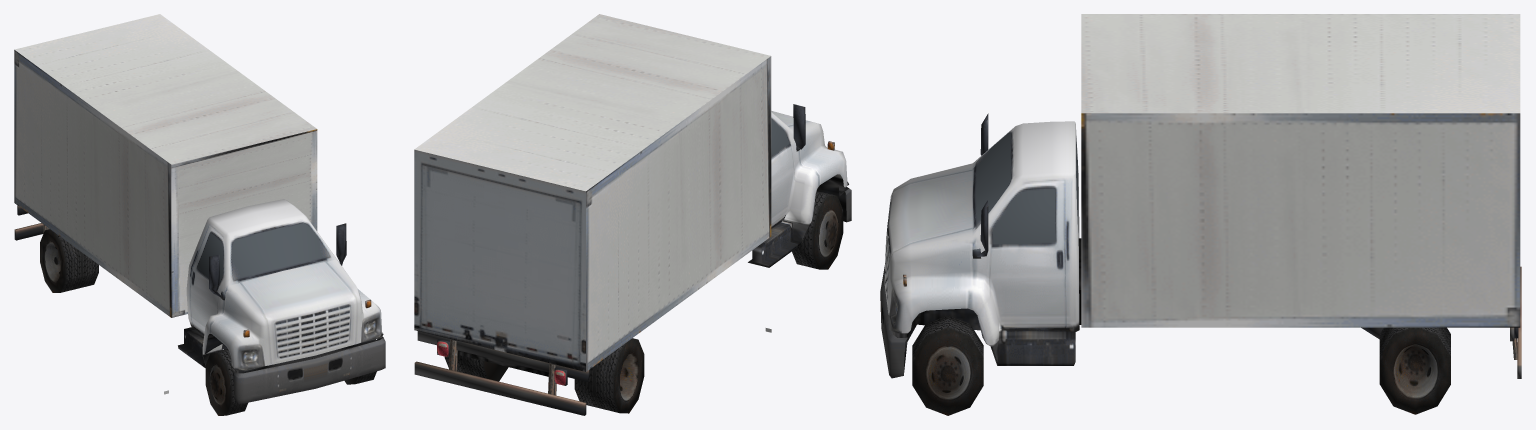
Rendered from Truck3.fbx.
The picture shows the model from 3 angles, left to right: view 1: azimuth 30°, elevation 25°; view 2: azimuth 150°, elevation 25°; view 3: azimuth 270°, elevation 25°; orthographic projection. The views are drawn at different scales.
Parts seen in each view (by area): view 1: Truck_1, WTR, WTF; view 2: Truck_1, WTR, WTF, WTR__1_; view 3: Truck_1, WTF__1_, WTR__1_.
Boxes of the visible parts, box(x1,y1,x2,y2) form: Truck_1: box(14, 14, 385, 403); WTR: box(40, 229, 98, 292); WTF: box(205, 349, 247, 415); Truck_1: box(414, 14, 851, 415); WTR: box(574, 338, 644, 413); WTF: box(792, 191, 843, 269); WTR__1_: box(444, 350, 508, 381); Truck_1: box(880, 14, 1521, 378); WTF__1_: box(912, 315, 983, 415); WTR__1_: box(1379, 327, 1450, 414).
Bounding box in the file's own units: 251 × 359 × 645.
